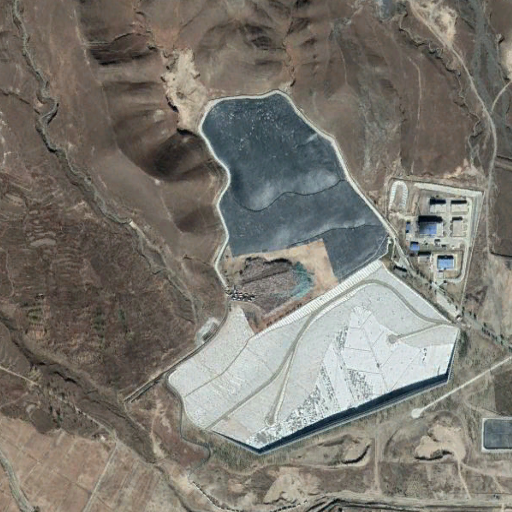lf: (166, 91, 458, 455)
